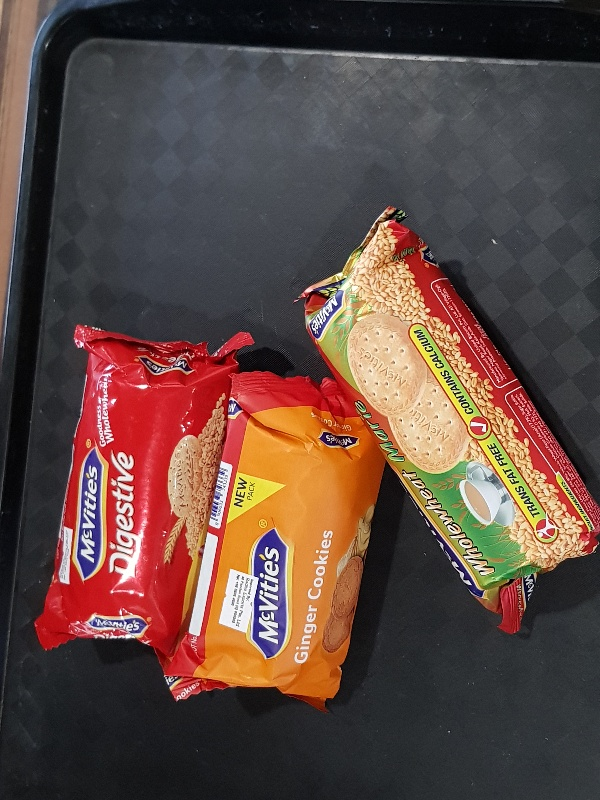McVitie's Ginger Cookies: (178, 371, 387, 701)
McVitie's Wholewheat Marie: (297, 205, 600, 635)
Mcvitie's Digestive: (34, 325, 253, 655)
